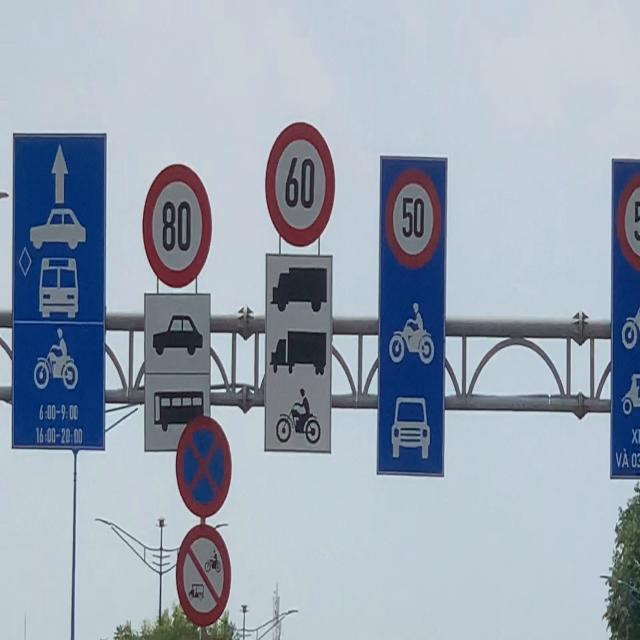Cam dung va do: (173, 408, 234, 517)
Toc do toi da: (141, 153, 215, 288), (264, 119, 340, 250), (382, 163, 445, 273)
